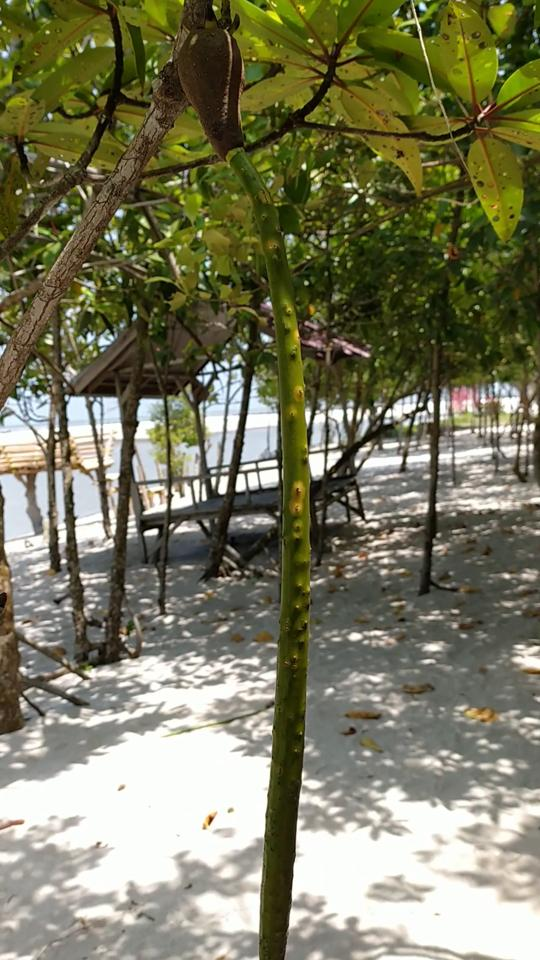setengah matang: (161, 8, 327, 956)
